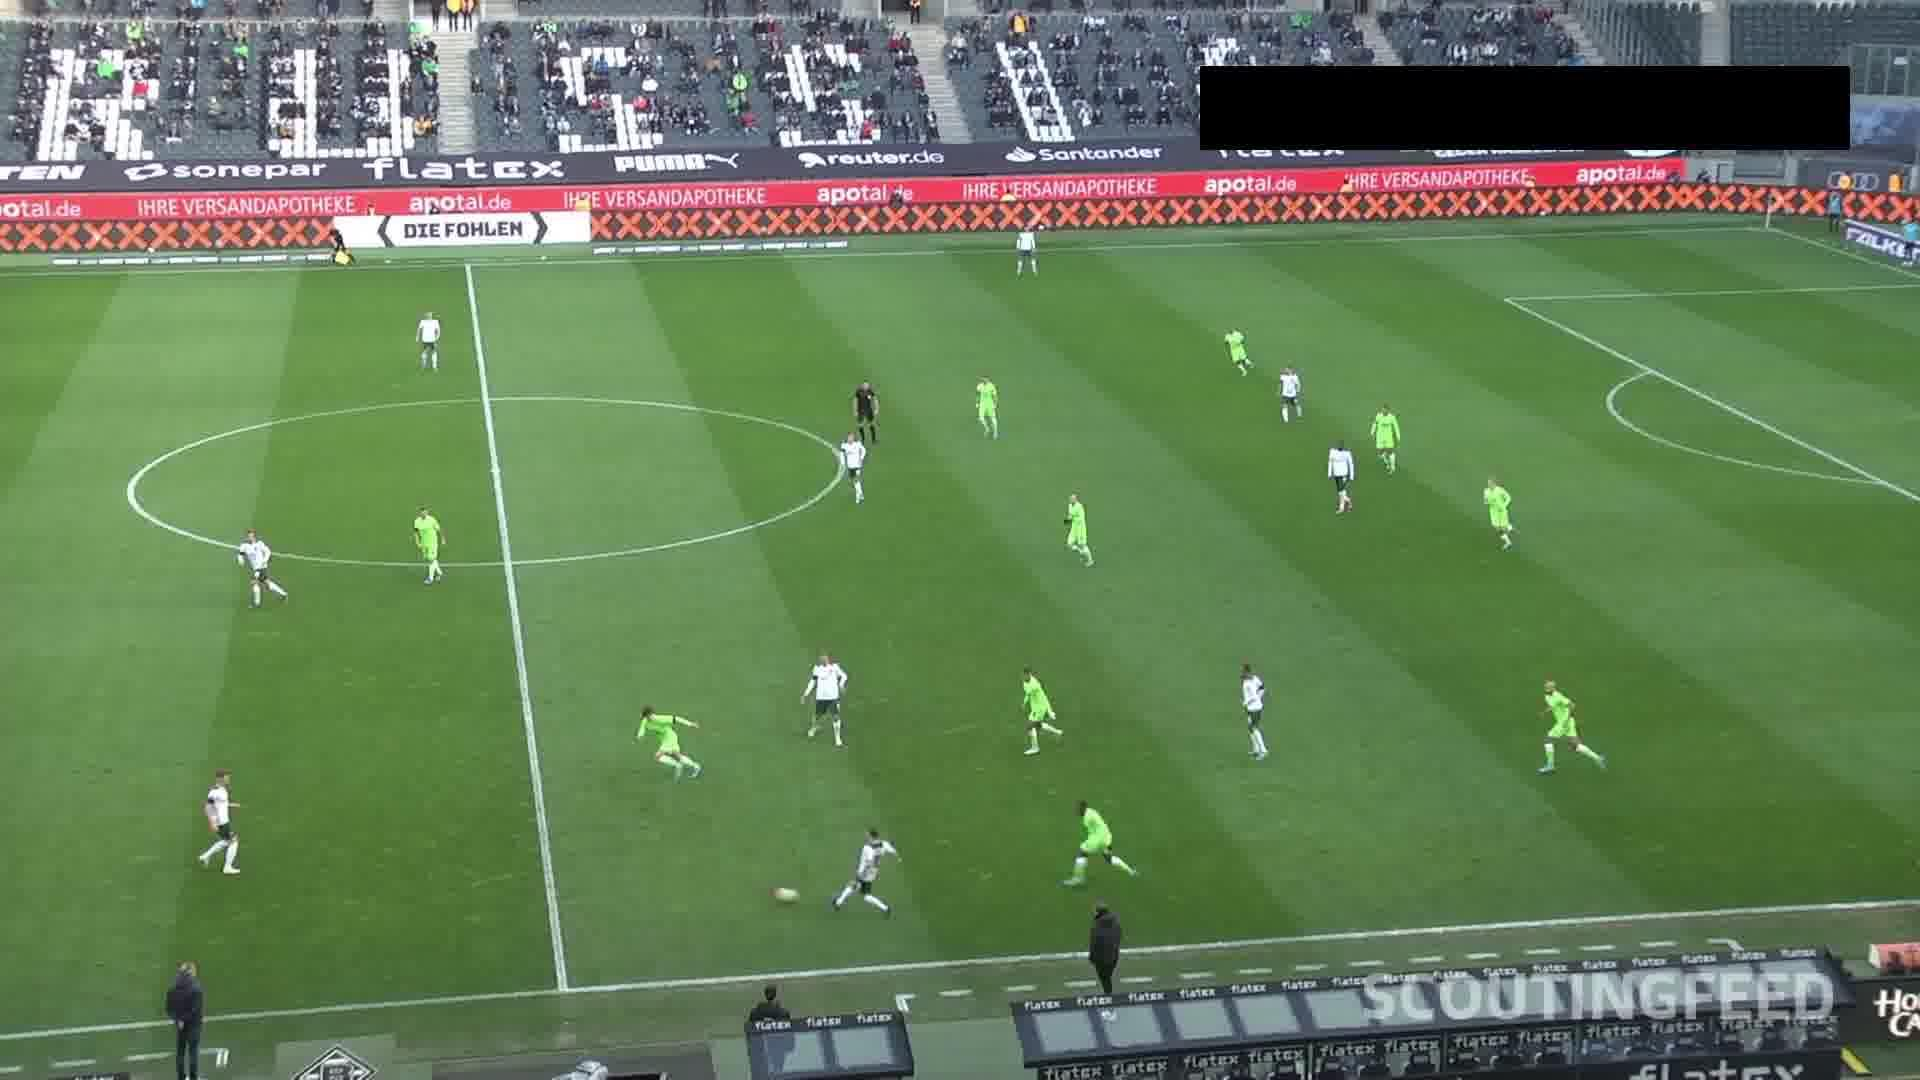football: (773, 886, 800, 907)
